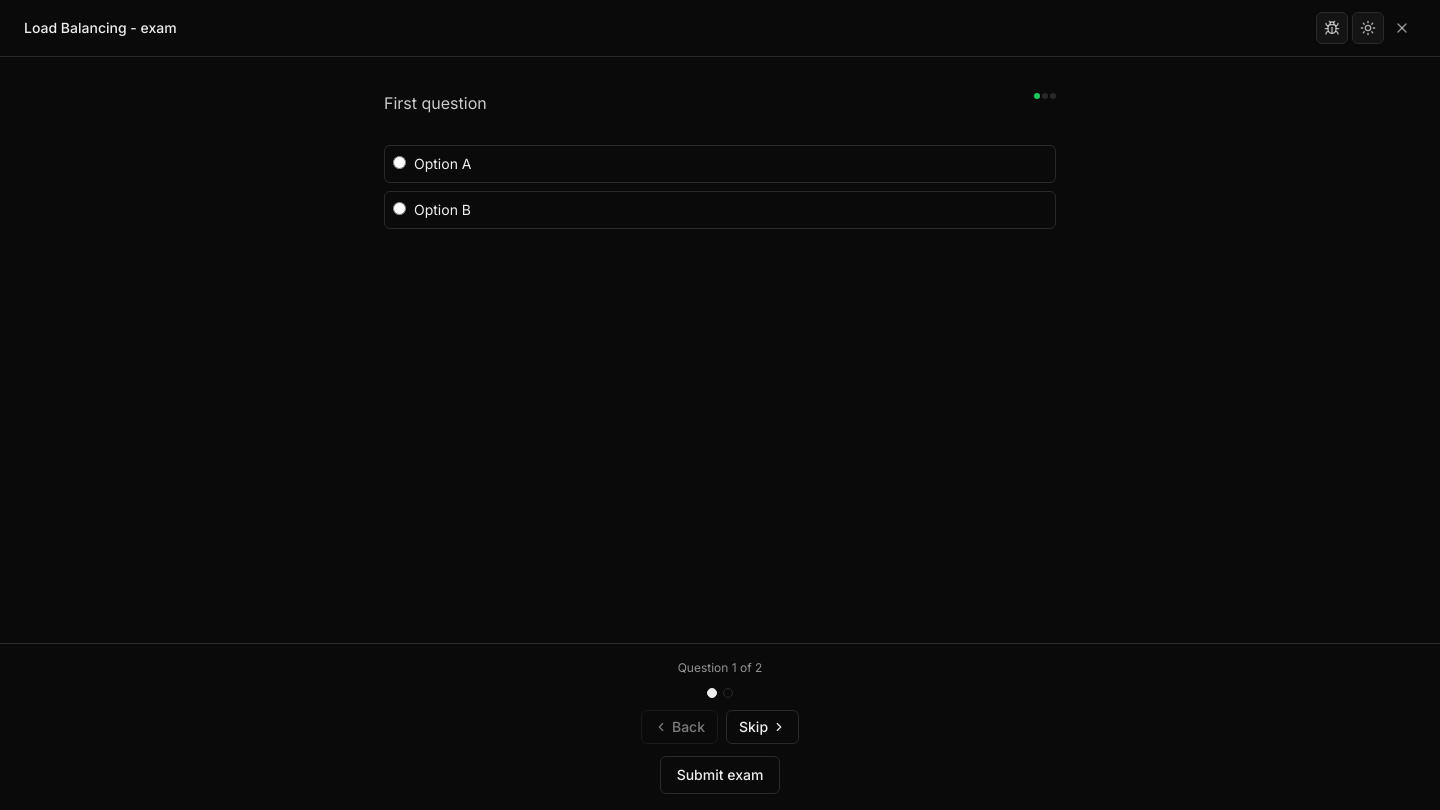
it: ExamShell › answer state survives navigating away and back
Click the radio button labelled "Option A": (400, 162) x1=393 y1=156 x2=406 y2=169
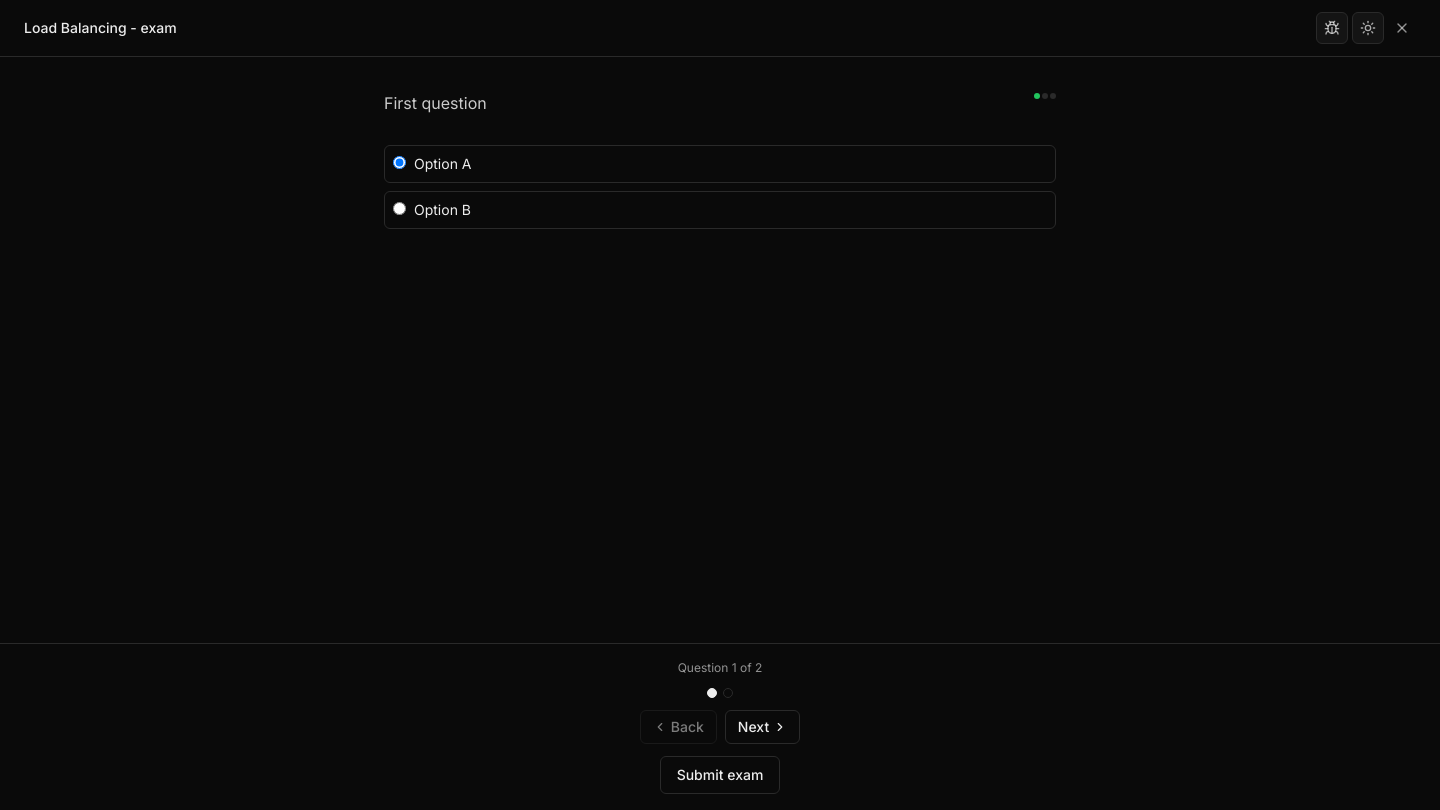
expect the radio button labelled "Option A" is checked: met, box x1=393 y1=156 x2=406 y2=169
Click the button "Next": (763, 727) x1=725 y1=710 x2=800 y2=744
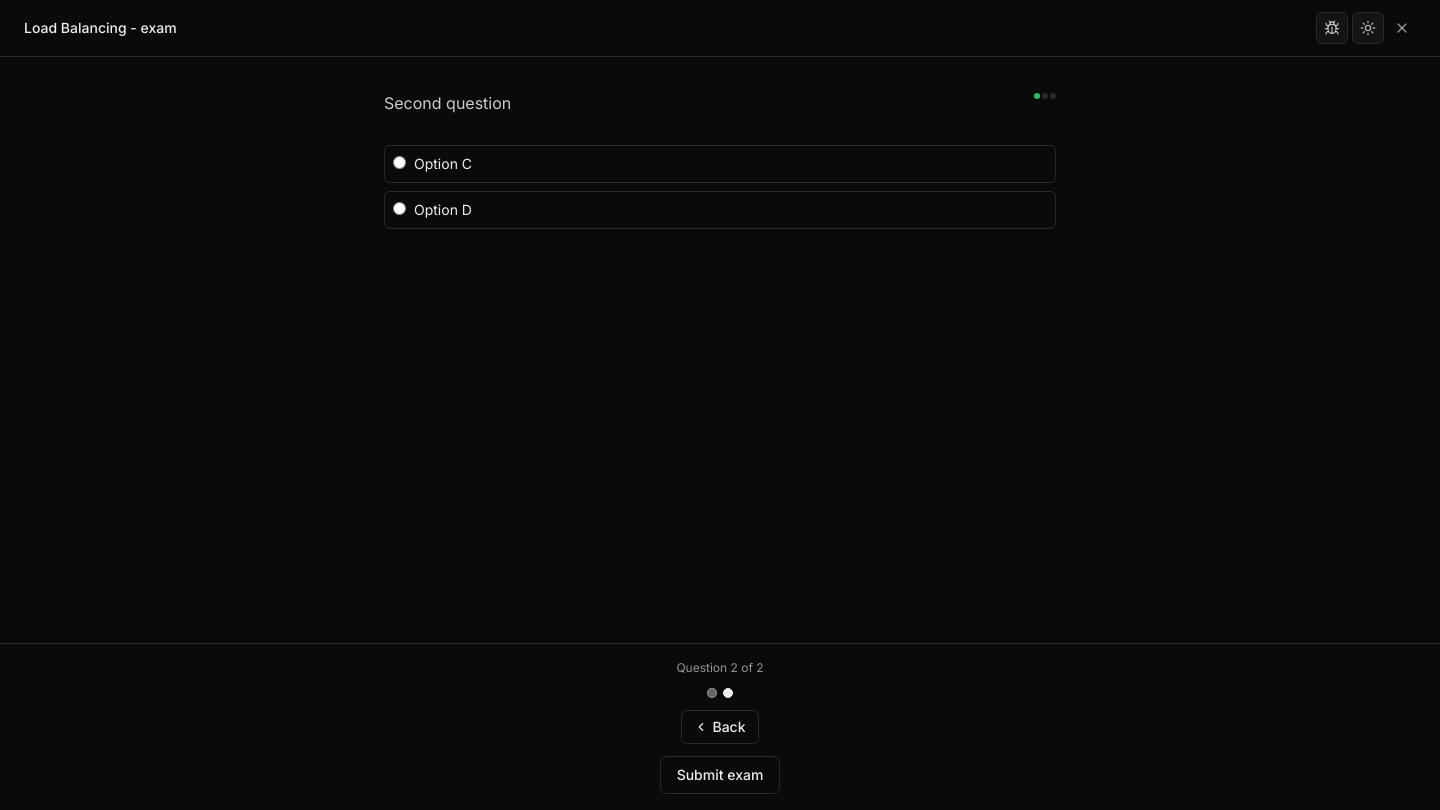
expect the text "Second question" is shown: met, box x1=384 y1=93 x2=511 y2=113
Click the button "Back": (720, 727) x1=682 y1=710 x2=759 y2=744
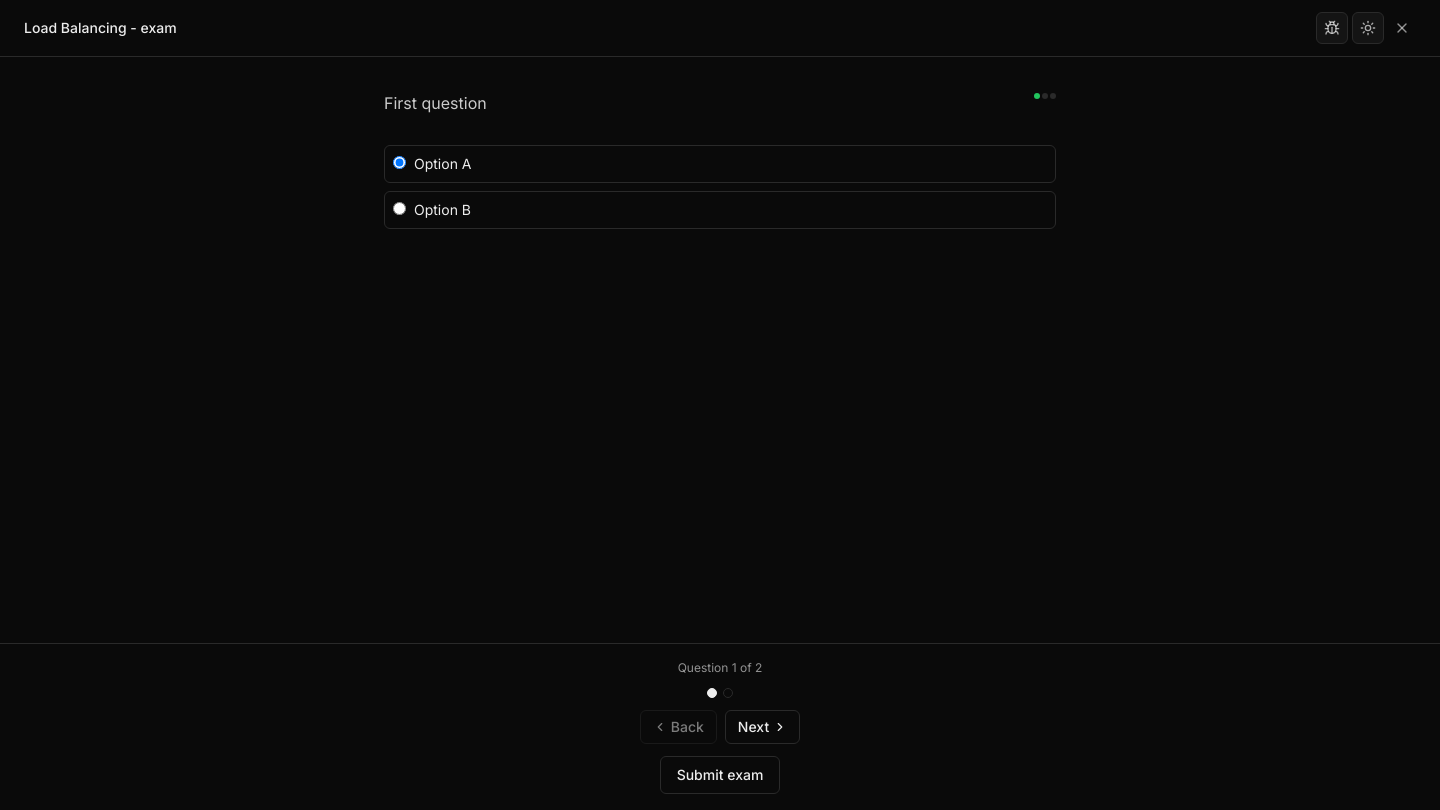
expect the text "First question" is shown: met, box x1=384 y1=93 x2=487 y2=113
expect the radio button labelled "Option A" is checked: met, box x1=393 y1=156 x2=406 y2=169
